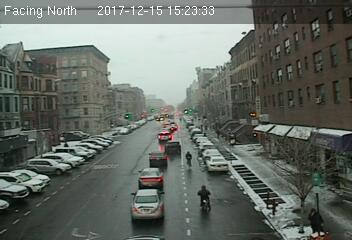bicycle: (198, 185, 214, 216), (184, 151, 193, 171)
car: (130, 189, 164, 221), (137, 167, 164, 190), (205, 155, 228, 173), (147, 151, 168, 166), (164, 141, 182, 154), (158, 131, 171, 141)
